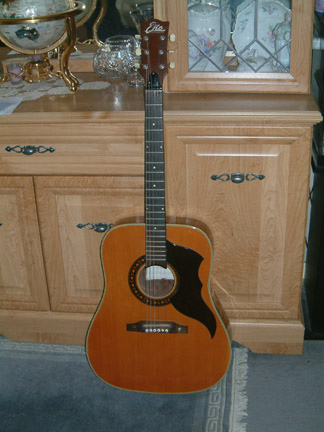guitar: (83, 18, 236, 397)
